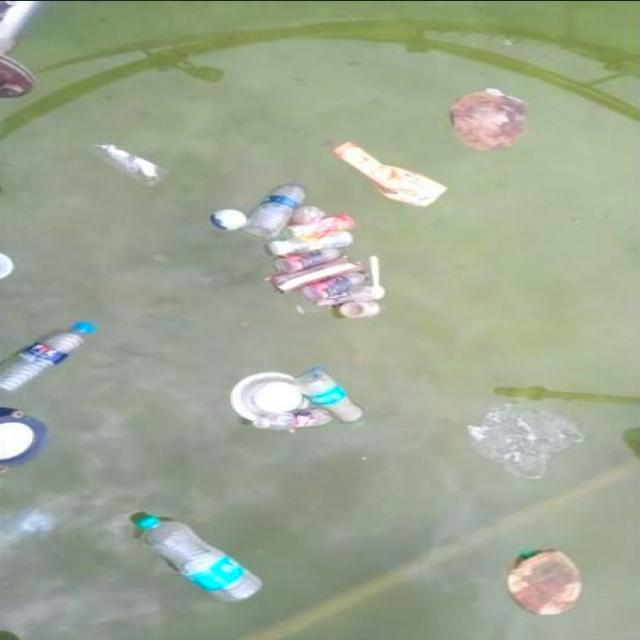Metal: (338, 299, 383, 324)
Plastic: (135, 502, 265, 603), (0, 317, 97, 392), (300, 367, 373, 431), (228, 373, 302, 426), (268, 255, 363, 293), (251, 179, 308, 241), (2, 404, 45, 468)
Trash: (468, 404, 585, 480), (334, 137, 450, 212), (450, 88, 534, 154), (508, 547, 583, 616), (89, 135, 169, 187), (263, 227, 357, 262), (304, 268, 378, 299), (0, 53, 37, 99), (256, 409, 333, 428), (303, 212, 354, 239), (210, 208, 245, 230), (0, 249, 14, 284)
